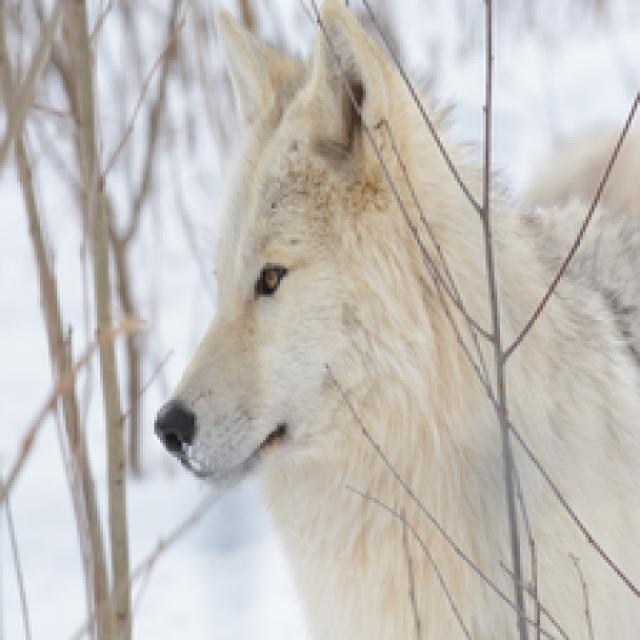wolf: (156, 19, 640, 640)
